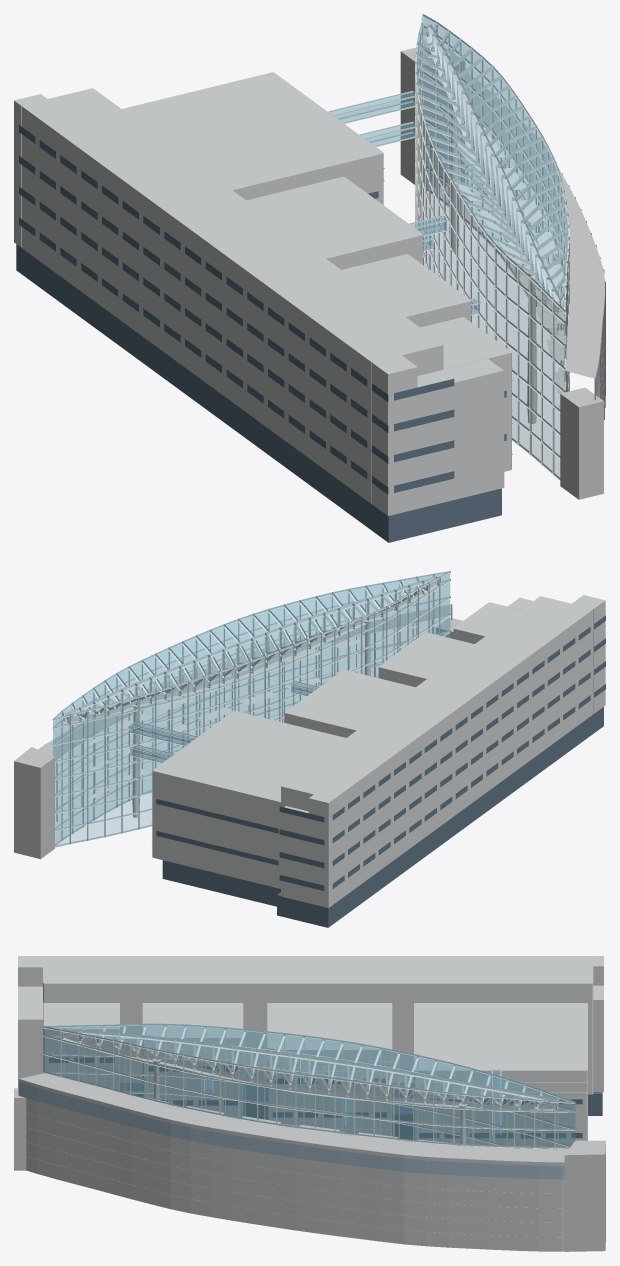
File: tokyo-international-forum.detail.glb
The picture shows the model from 3 angles, top to bottom: view 1: azimuth 30°, elevation 25°; view 2: azimuth 150°, elevation 25°; view 3: azimuth 270°, elevation 25°; orthographic projection. The views are drawn at different scales.
Visible parts, largest first — view 1: Tokyo International Forum; view 2: Tokyo International Forum; view 3: Tokyo International Forum.
Boxes of the visible parts, x1,y1,x2,y2 form: Tokyo International Forum: (14,14,605,542); Tokyo International Forum: (14,571,605,927); Tokyo International Forum: (14,956,605,1251).
Size of the model in its own units: 145 by 60 by 222.
